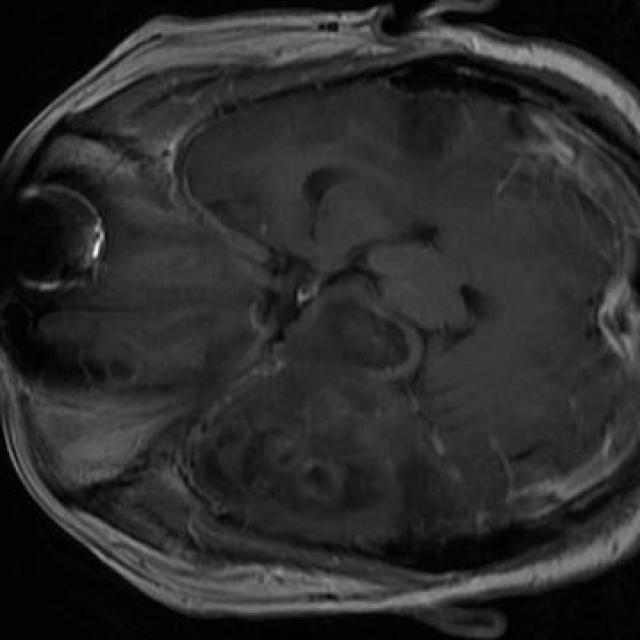glioma: (189, 371, 487, 546)
